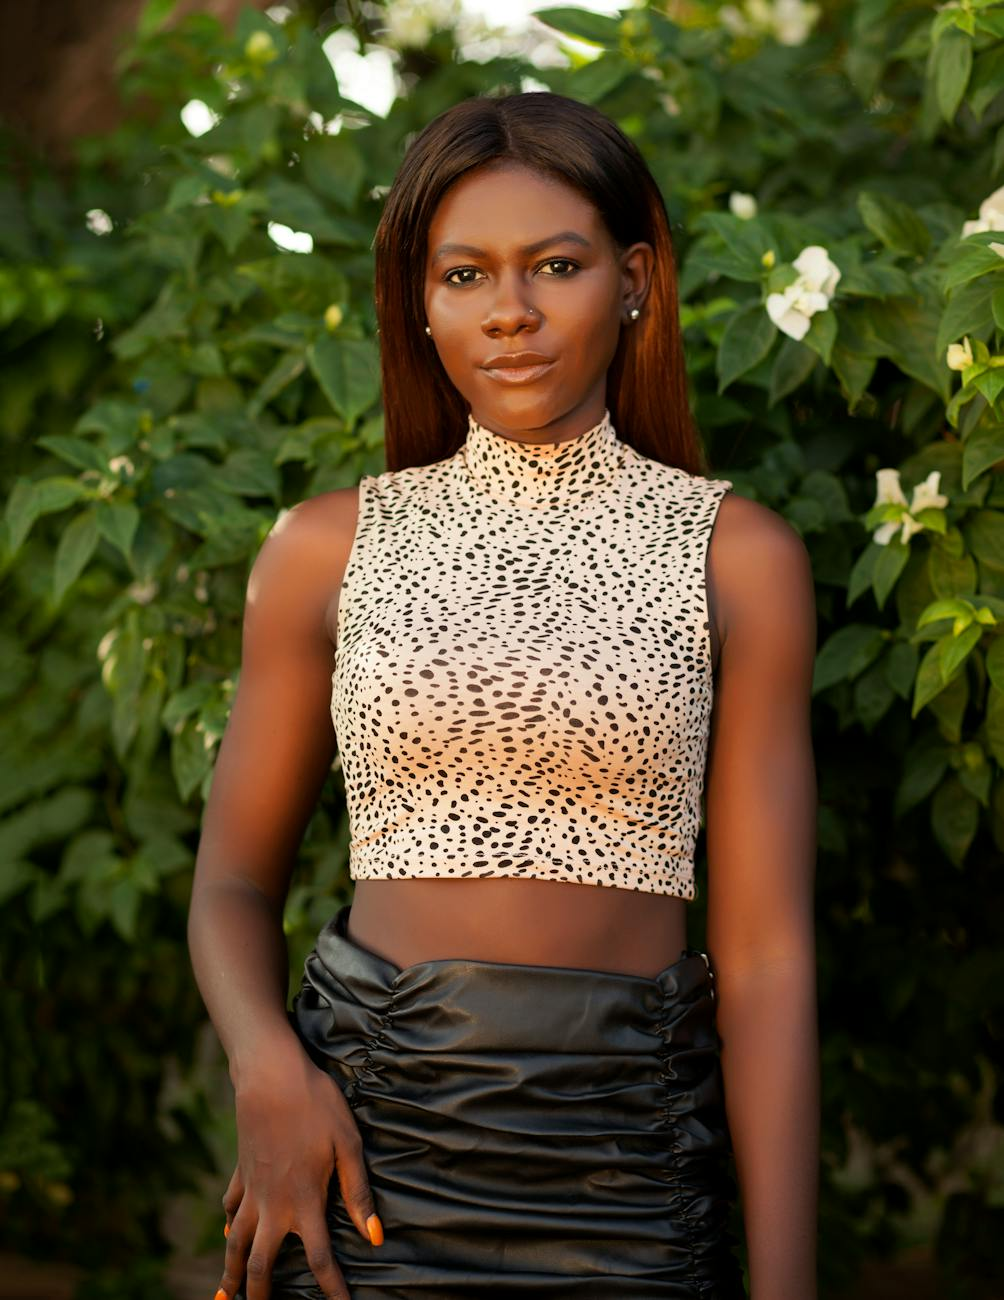crop_top: (270, 420, 787, 903)
